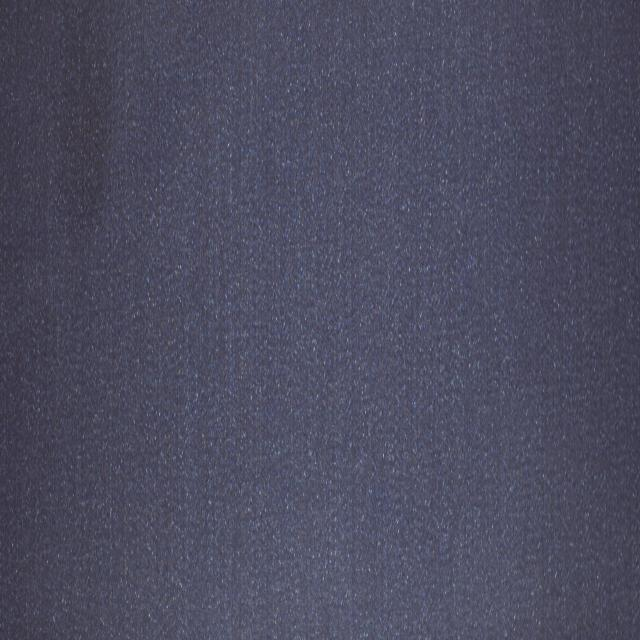Stain: (48, 0, 112, 276)
